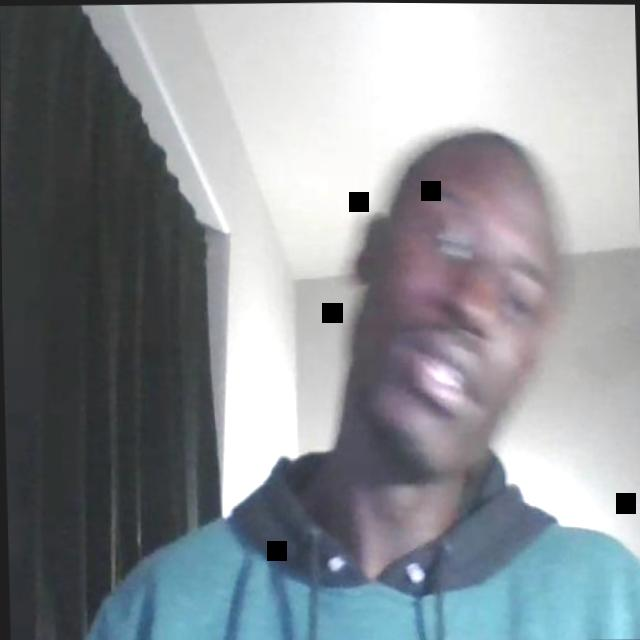NO-Mask: (352, 171, 559, 484)
